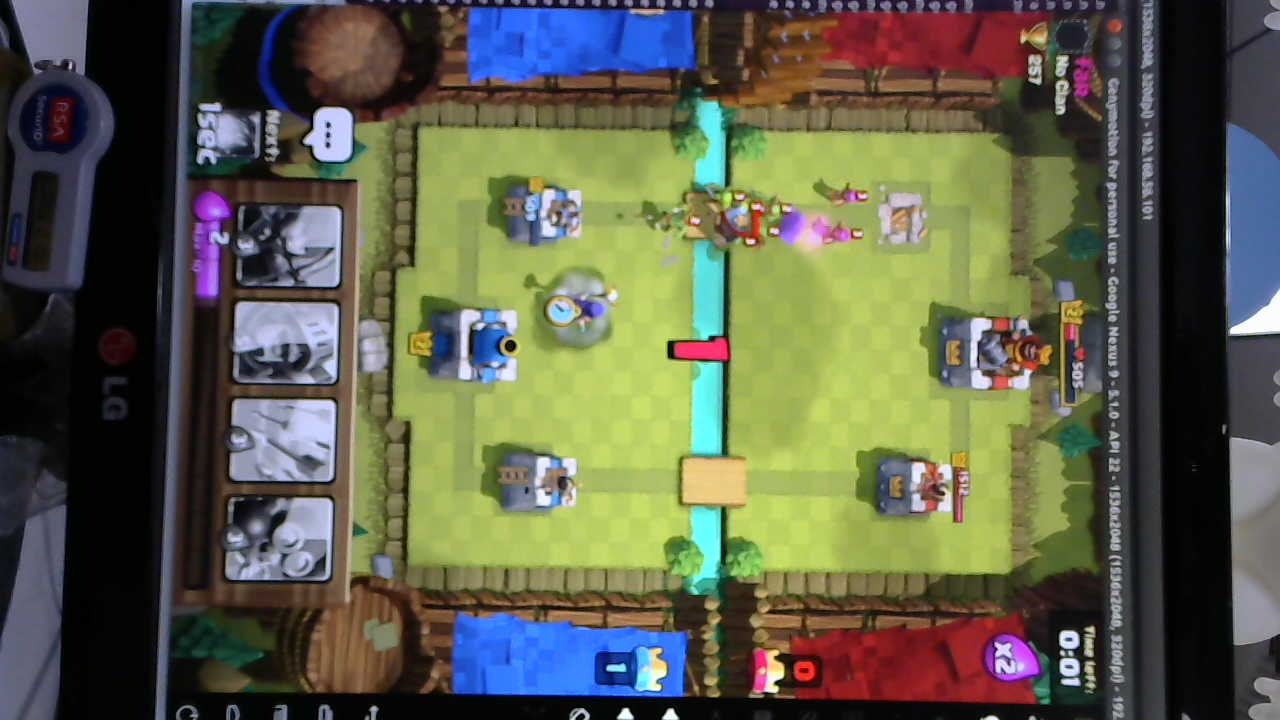archers: (820, 182, 871, 246)
arena: (494, 442, 580, 513), (506, 181, 587, 246)
darena: (872, 186, 931, 251)
earena: (876, 452, 954, 520)
eking: (943, 309, 1049, 397)
king: (429, 298, 523, 389)
knight: (709, 195, 756, 248)
prince: (657, 200, 721, 240)
witch: (565, 287, 619, 330)
